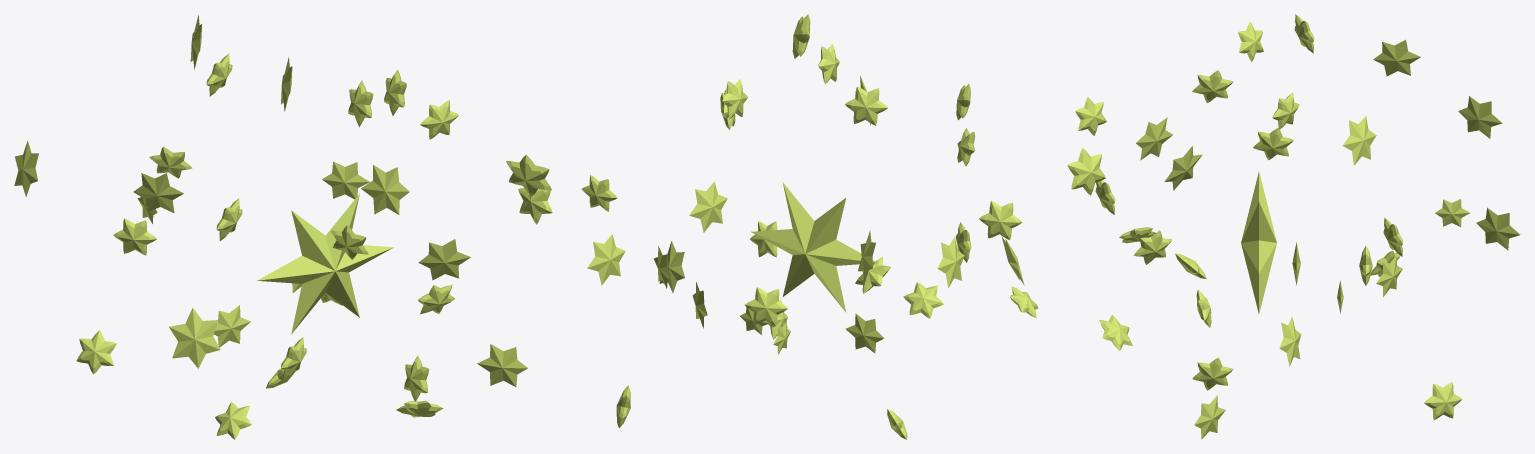
3 views of the same model, side by side, from view 1: azimuth 30°, elevation 25°; view 2: azimuth 150°, elevation 25°; view 3: azimuth 270°, elevation 25° (orthographic). The views are drawn at different scales.
Visible parts, largest first — view 1: stars; view 2: stars; view 3: stars.
Part boxes in pixels (x1,y1,x2,y2): stars: (14, 15, 552, 439); stars: (581, 14, 1038, 439); stars: (1067, 14, 1520, 439).
Size of the model in its own units: 2.41 by 1.92 by 2.47.
